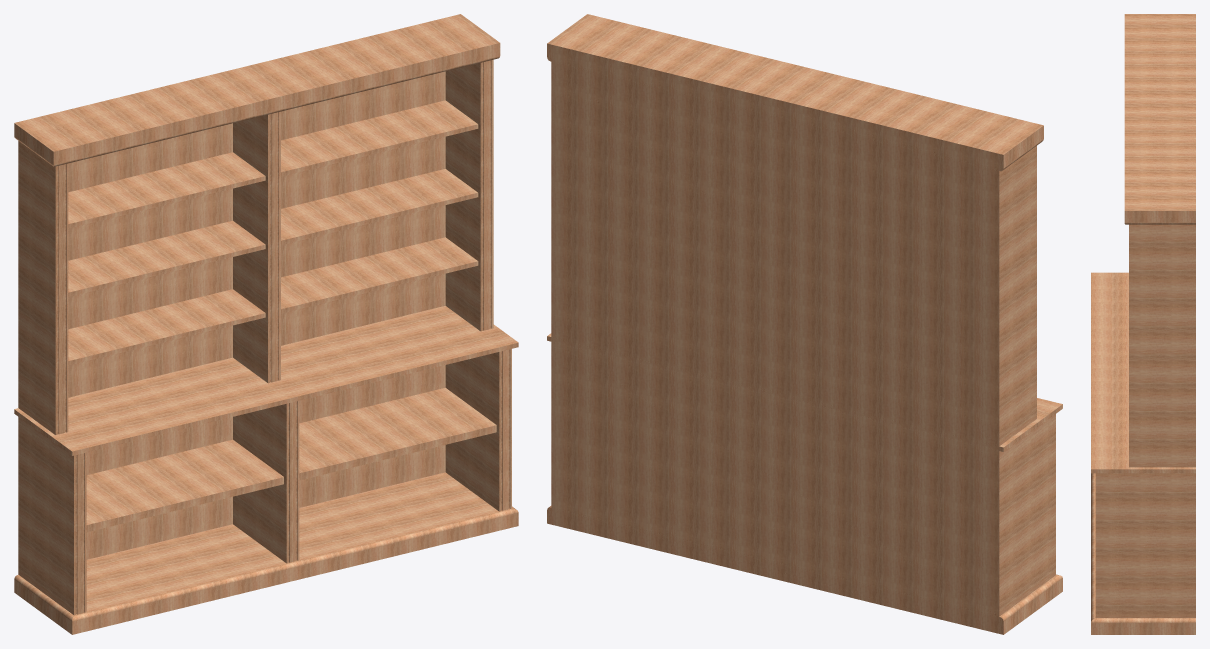
The model's file is shelf-model.obj.
3 views of the same model, side by side, from view 1: azimuth 30°, elevation 25°; view 2: azimuth 150°, elevation 25°; view 3: azimuth 270°, elevation 25° (orthographic). The views are drawn at different scales.
Parts seen in each view (by area): view 1: Solid1; view 2: Solid1; view 3: Solid1.
Boxes of the visible parts, x1,y1,x2,y2 form: Solid1: (14,14,518,634); Solid1: (547,14,1062,634); Solid1: (1091,14,1195,634).
Bounding box in the file's own units: 2090 × 2100 × 470.
2 materials, 2 textured.
